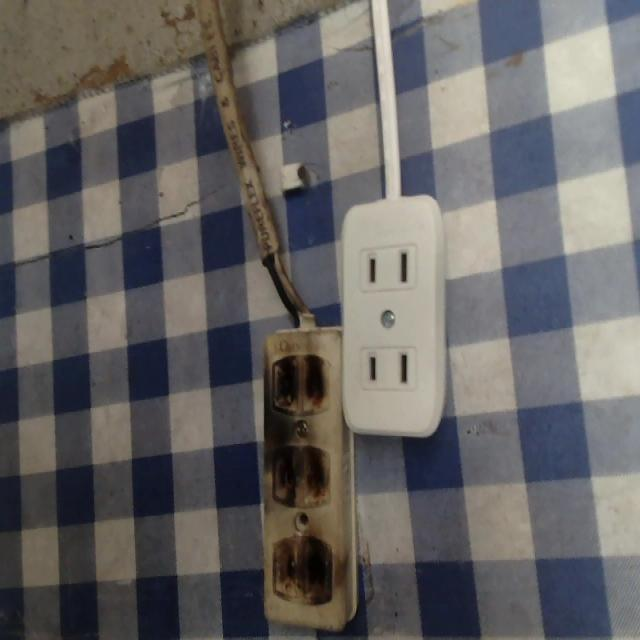-: (262, 437, 335, 507), (268, 347, 333, 421), (264, 535, 337, 600)
